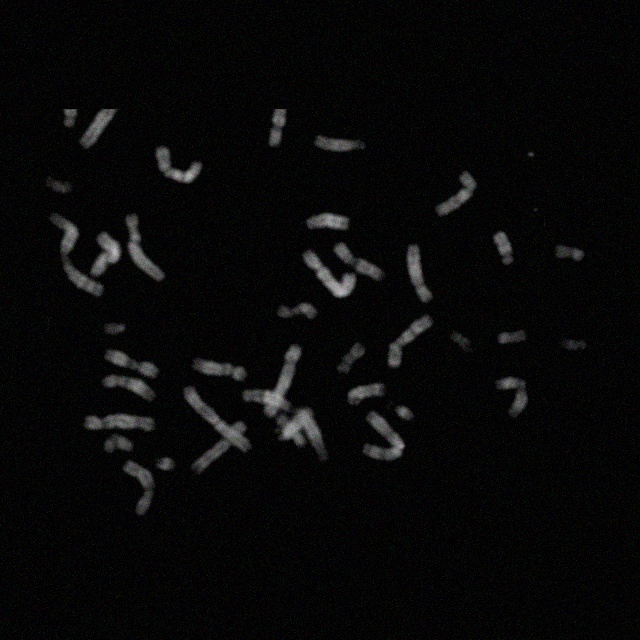chromosome: (46, 212, 104, 298), (183, 386, 253, 452), (191, 423, 249, 475), (263, 344, 301, 414), (128, 214, 166, 282), (304, 249, 354, 297), (388, 316, 434, 368), (430, 167, 476, 217), (360, 411, 406, 461), (296, 403, 330, 459), (156, 146, 202, 184), (406, 243, 434, 305), (336, 242, 384, 278), (84, 412, 156, 434), (123, 462, 153, 514), (79, 109, 117, 150), (260, 107, 292, 151), (105, 349, 157, 376), (193, 357, 247, 383), (105, 375, 155, 403), (311, 131, 364, 157), (241, 386, 293, 412), (490, 225, 518, 272), (497, 377, 528, 419), (92, 234, 120, 276), (280, 410, 312, 440), (278, 414, 304, 450), (276, 302, 318, 324), (347, 382, 385, 406), (306, 212, 349, 232), (338, 344, 364, 376), (103, 434, 135, 458), (451, 331, 475, 355), (554, 244, 584, 262), (498, 329, 526, 347), (104, 316, 126, 338), (154, 453, 176, 475), (394, 404, 416, 421), (564, 338, 588, 352)
